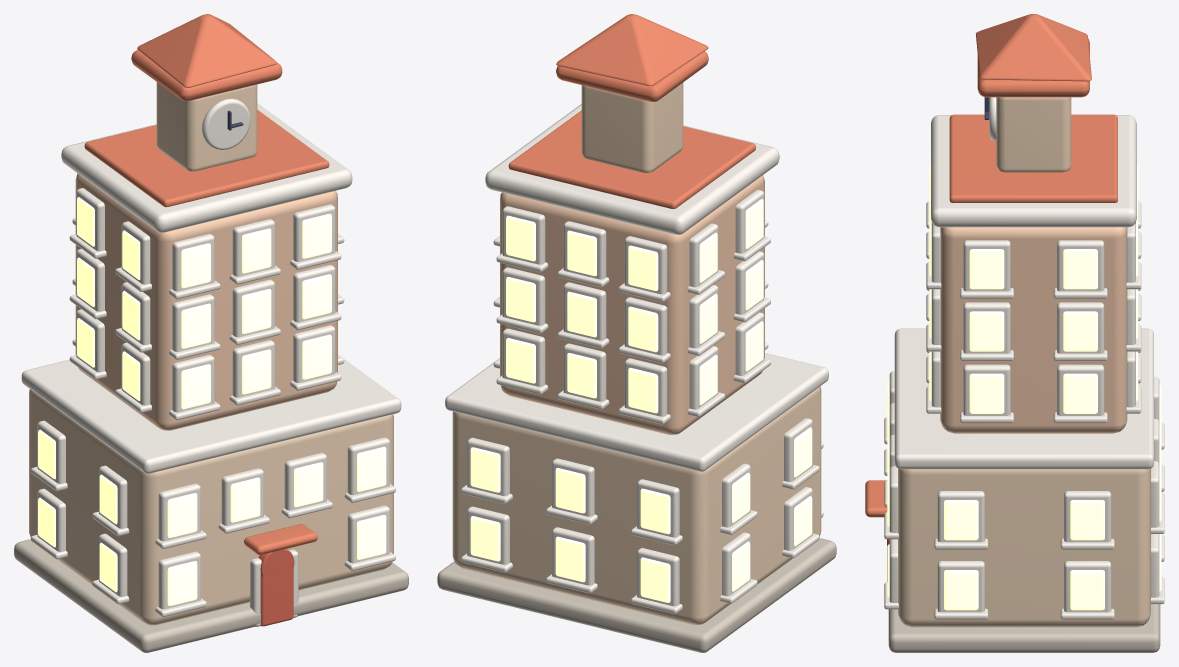
3 views of the same model, side by side, from view 1: azimuth 30°, elevation 25°; view 2: azimuth 150°, elevation 25°; view 3: azimuth 270°, elevation 25° (orthographic). The views are drawn at different scales.
Parts seen in each view (by area): view 1: Cube; view 2: Cube; view 3: Cube.
Part boxes in pixels (x1=…): Cube: x1=14, y1=14, x2=408, y2=652; Cube: x1=437, y1=14, x2=836, y2=652; Cube: x1=865, y1=14, x2=1164, y2=652.
Size of the model in its own units: 0.699 by 1.35 by 0.6395.
